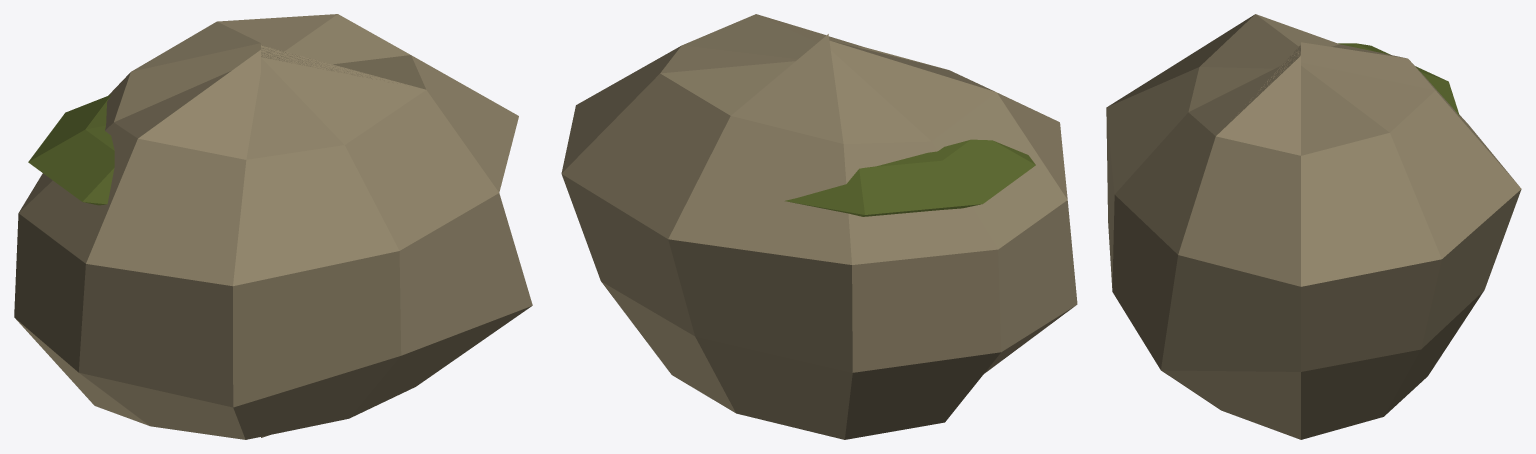
The model's file is rock.glb.
The picture shows the model from 3 angles, left to right: view 1: azimuth 30°, elevation 25°; view 2: azimuth 150°, elevation 25°; view 3: azimuth 270°, elevation 25°; orthographic projection. The views are drawn at different scales.
Parts seen in each view (by area): view 1: rock; view 2: rock; view 3: rock.
Part boxes in pixels (x1,y1,x2,y2): rock: [14, 14, 532, 439]; rock: [561, 14, 1077, 439]; rock: [1106, 14, 1521, 439].
Size of the model in its own units: 1.59 by 1.26 by 1.29.
